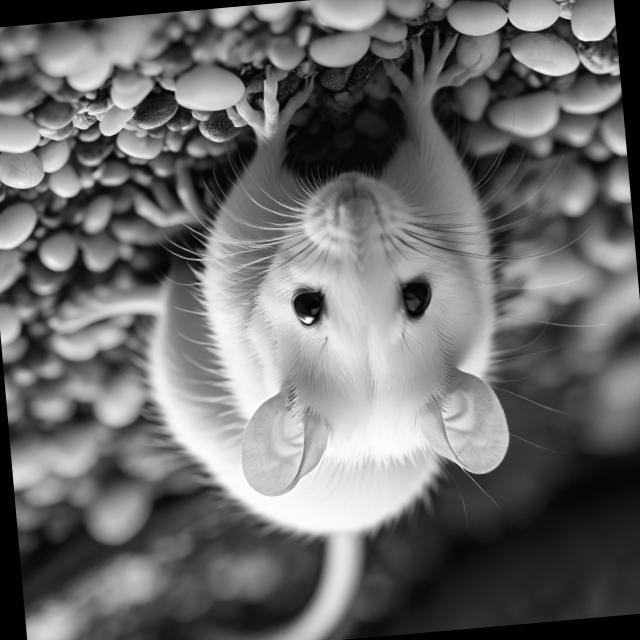rodent: (117, 109, 566, 574)
